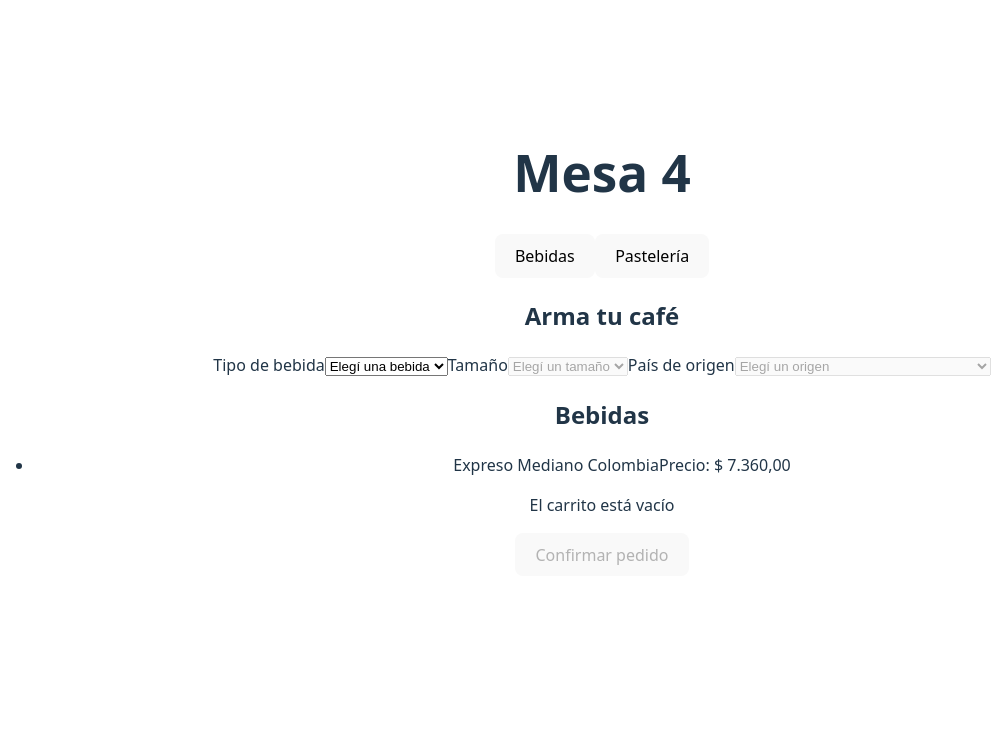
Test: Menu con API › actualiza el estado consultando GET /pedidos/:id sin recargar
Select "Expreso" in the dropdown labelled "Tipo de bebida": [386, 367] box [325, 358, 448, 376]
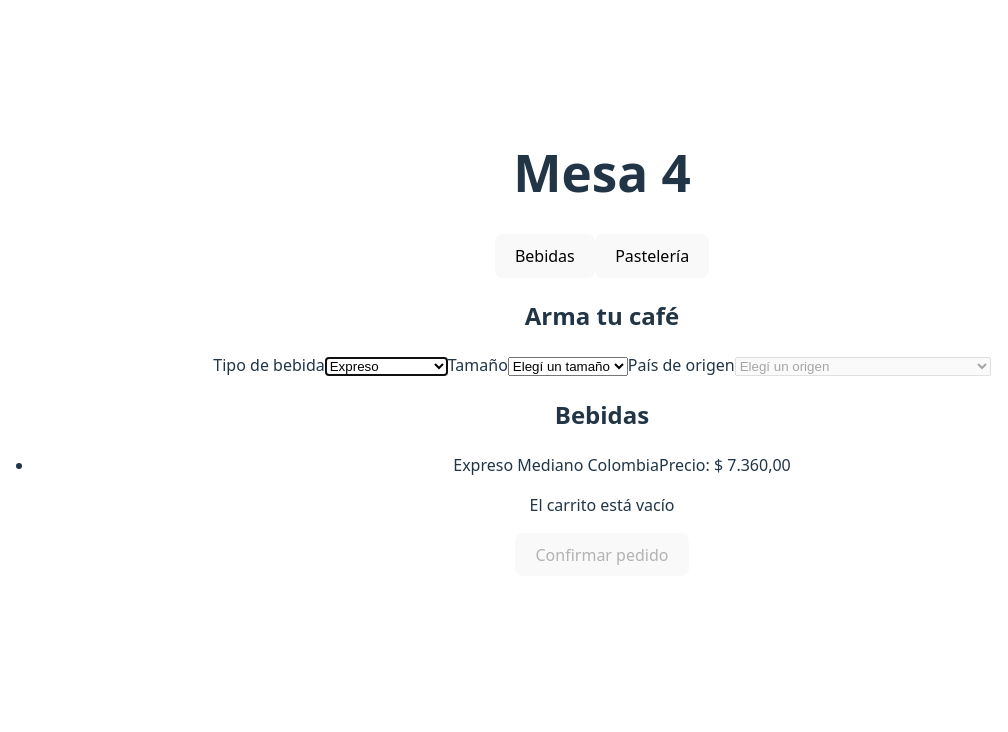
Select "Mediano" in the dropdown labelled "Tamaño": [568, 367] box [508, 358, 628, 376]
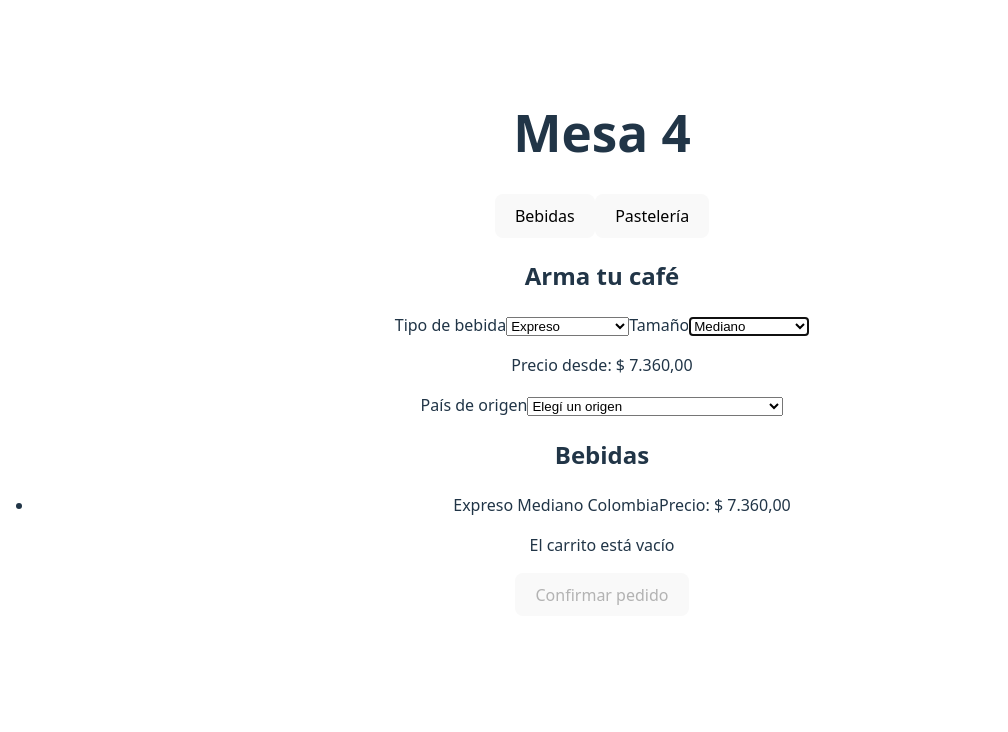
Select "Colombia — Dulce, equilibrado, frutal." in the dropdown labelled "País de origen": [655, 407] box [527, 398, 783, 416]
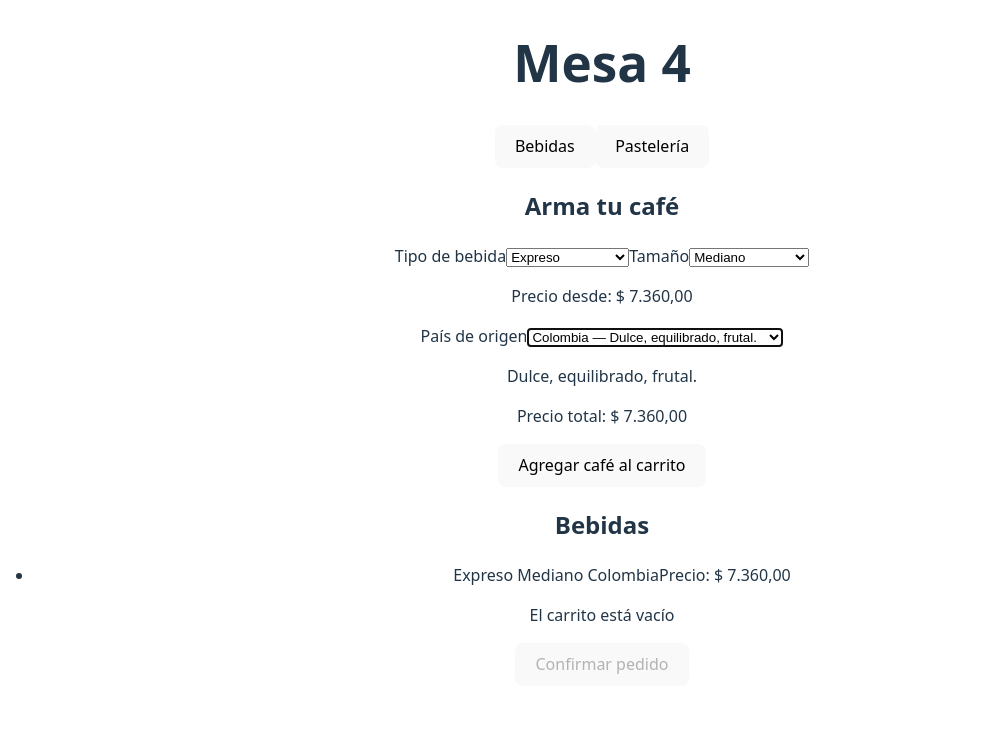
Click the button "Agregar café al carrito": [602, 466] box [498, 444, 706, 487]
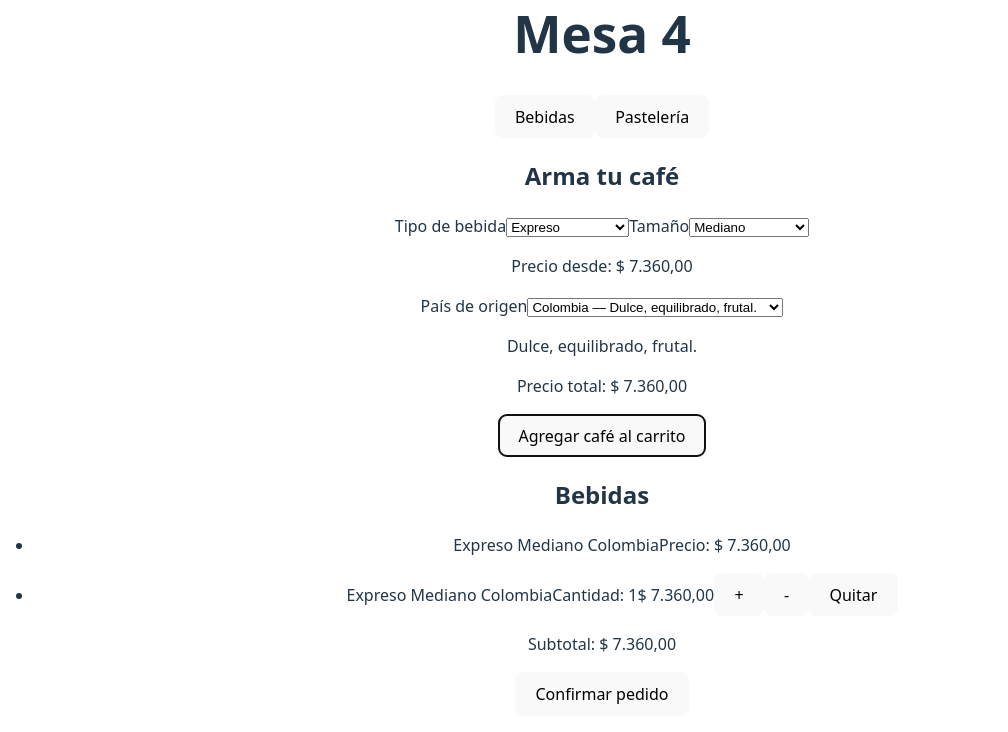
Click the button "Confirmar pedido": [602, 694] box [515, 672, 689, 716]
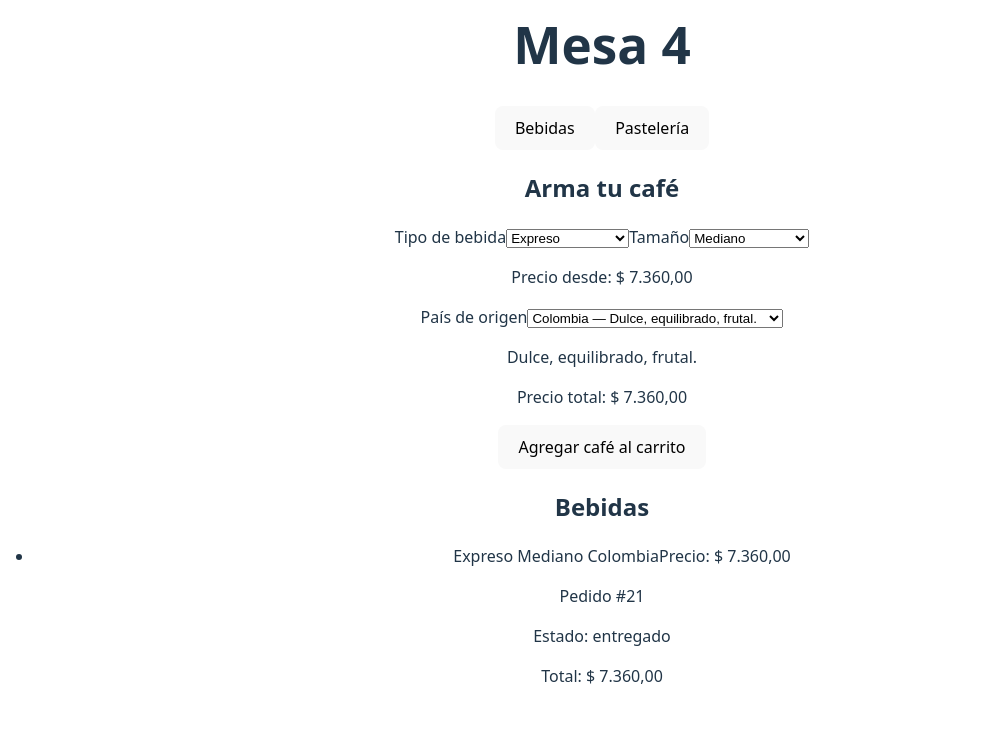
Result: the text "Pedido #21" is shown at [560, 586, 644, 608]
Result: the text "Estado: entregado" is shown at [533, 626, 671, 648]
